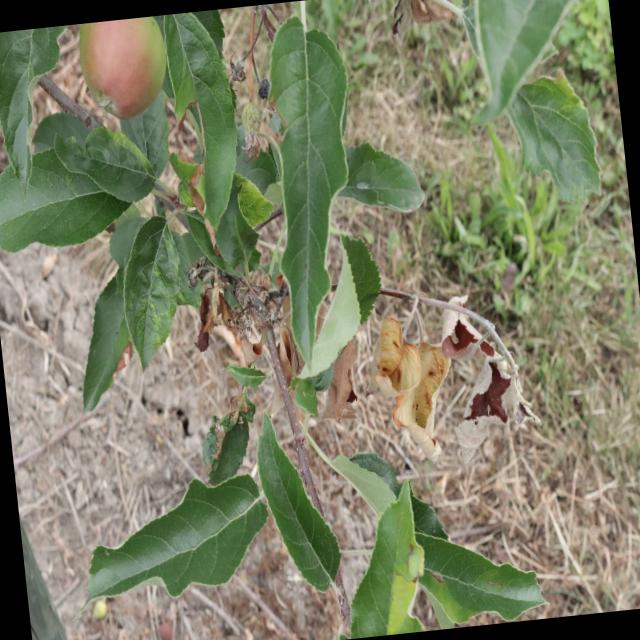-FireBlight-: (369, 294, 536, 458), (194, 258, 307, 385), (385, 0, 447, 41)
